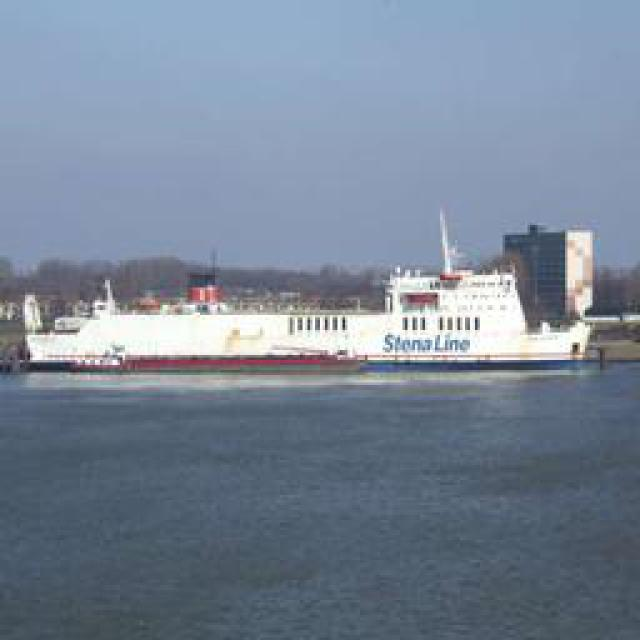Ship: (16, 214, 609, 379)
